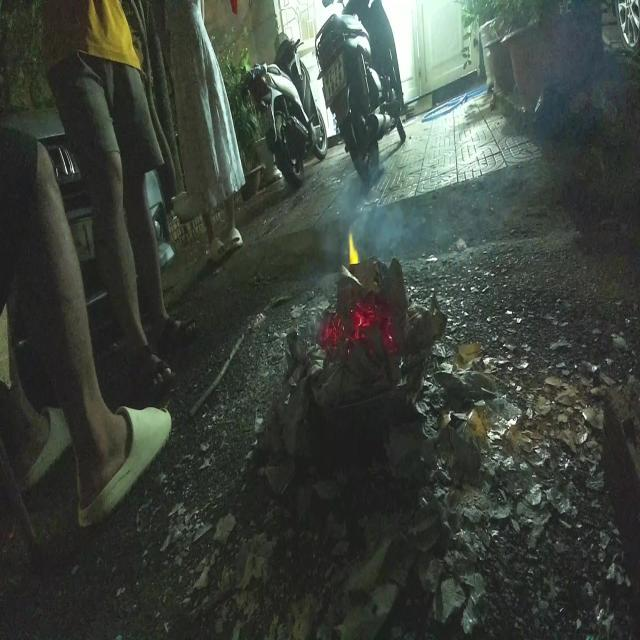Fire: (348, 232, 359, 266)
Smoke: (320, 182, 409, 258)
